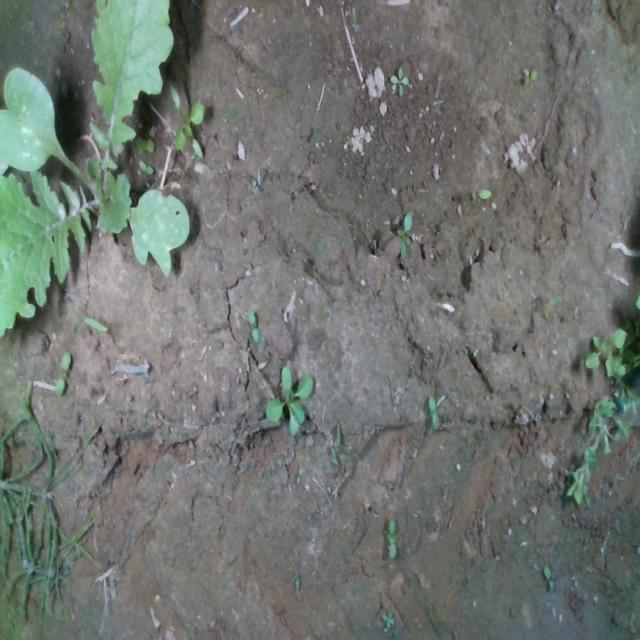weed: (396, 210, 413, 262), (53, 350, 71, 398), (389, 63, 409, 96), (247, 308, 260, 343), (387, 516, 397, 559), (428, 392, 439, 429), (542, 563, 554, 591), (138, 157, 154, 175), (470, 187, 492, 200), (523, 68, 538, 87), (381, 609, 394, 628)
